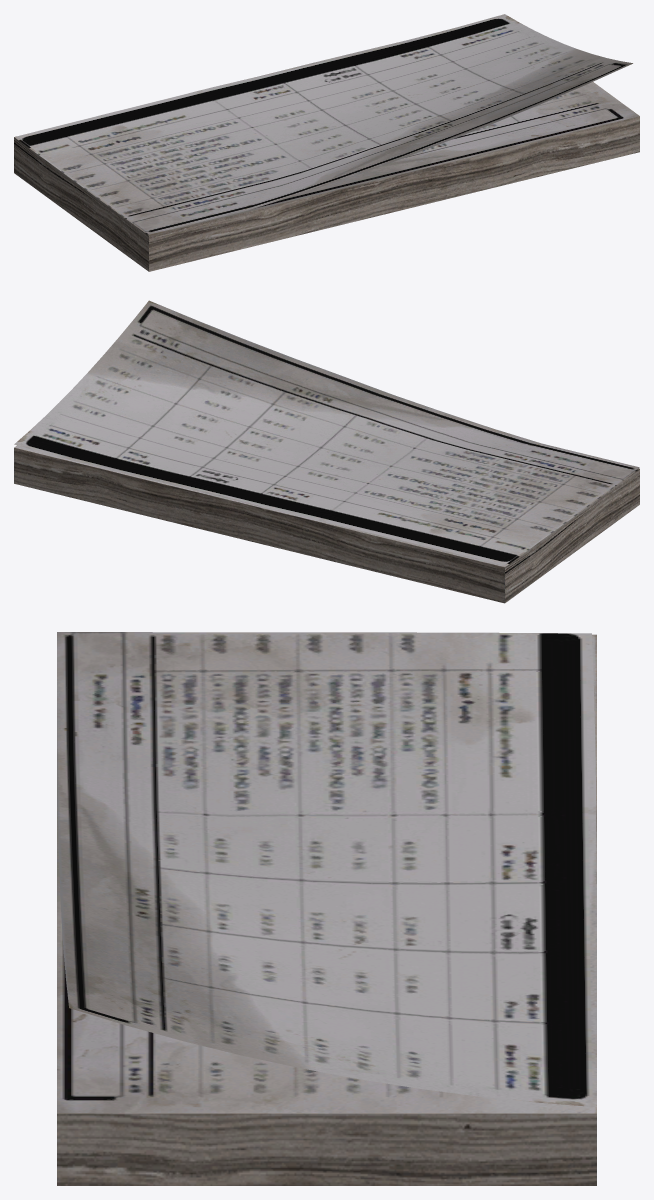
Rendered from accountstatements.DAE.
The picture shows the model from 3 angles, top to bottom: view 1: azimuth 30°, elevation 25°; view 2: azimuth 150°, elevation 25°; view 3: azimuth 270°, elevation 25°; orthographic projection. The views are drawn at different scales.
Visible parts, largest first — view 1: accountstatements; view 2: accountstatements; view 3: accountstatements.
Boxes of the visible parts, x1=… form: accountstatements: x1=14, y1=14, x2=639, y2=271; accountstatements: x1=14, y1=300, x2=639, y2=603; accountstatements: x1=57, y1=632, x2=596, y2=1185.
Size of the model in its own units: 20.05 by 3.41 by 9.55.
